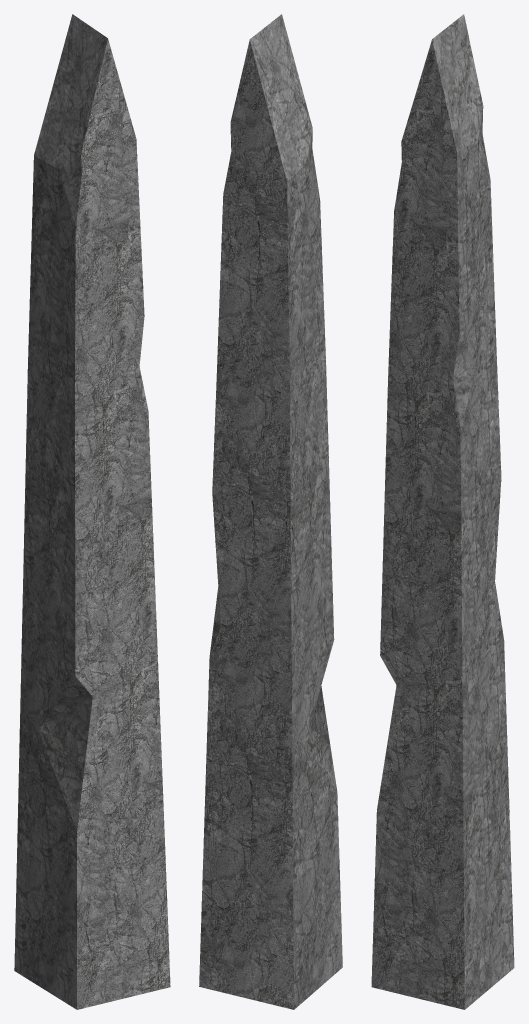
Rendered from materials_3_stone_4.fbx.
3 renders of one model, left to right at view 1: azimuth 30°, elevation 25°; view 2: azimuth 150°, elevation 25°; view 3: azimuth 330°, elevation 25°, orthographic.
Parts seen in each view (by area): view 1: materials_3_stone_4; view 2: materials_3_stone_4; view 3: materials_3_stone_4.
Part boxes in pixels (bbox=[...]): materials_3_stone_4: bbox=[14, 14, 170, 1009]; materials_3_stone_4: bbox=[199, 14, 342, 1009]; materials_3_stone_4: bbox=[371, 14, 514, 1009].
Size of the model in its own units: 69.51 by 628 by 66.63.
